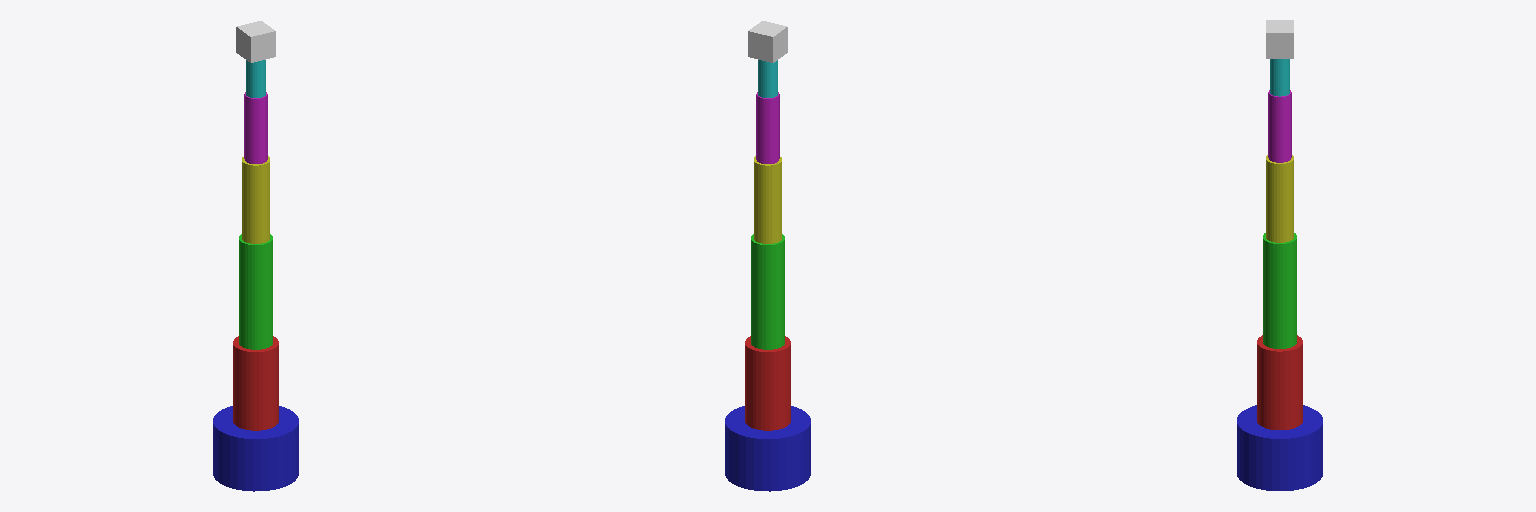
robot.urdf — six_axis_arm:
<?xml version="1.0"?>
<robot name="six_axis_arm">
    
    <!-- Base Link -->
    <link name="base_link">
        <visual>
            <geometry>
                <cylinder length="0.2" radius="0.15"/>
            </geometry>
            <material name="base_material">
                <color rgba="0.2 0.2 0.8 1.0"/>
            </material>
        </visual>
    </link>
    
    <!-- Link 1 -->
    <link name="link1">
        <visual>
            <origin xyz="0 0 0.15" rpy="0 0 0"/>
            <geometry>
                <cylinder length="0.3" radius="0.08"/>
            </geometry>
            <material name="link1_material">
                <color rgba="0.8 0.2 0.2 1.0"/>
            </material>
        </visual>
    </link>
    
    <!-- Link 2 -->
    <link name="link2">
        <visual>
            <origin xyz="0 0 0.2" rpy="0 0 0"/>
            <geometry>
                <cylinder length="0.4" radius="0.06"/>
            </geometry>
            <material name="link2_material">
                <color rgba="0.2 0.8 0.2 1.0"/>
            </material>
        </visual>
    </link>
    
    <!-- Link 3 -->
    <link name="link3">
        <visual>
            <origin xyz="0 0 0.15" rpy="0 0 0"/>
            <geometry>
                <cylinder length="0.3" radius="0.05"/>
            </geometry>
            <material name="link3_material">
                <color rgba="0.8 0.8 0.2 1.0"/>
            </material>
        </visual>
    </link>
    
    <!-- Link 4 -->
    <link name="link4">
        <visual>
            <origin xyz="0 0 0.125" rpy="0 0 0"/>
            <geometry>
                <cylinder length="0.25" radius="0.04"/>
            </geometry>
            <material name="link4_material">
                <color rgba="0.8 0.2 0.8 1.0"/>
            </material>
        </visual>
    </link>
    
    <!-- Link 5 -->
    <link name="link5">
        <visual>
            <origin xyz="0 0 0.1" rpy="0 0 0"/>
            <geometry>
                <cylinder length="0.2" radius="0.035"/>
            </geometry>
            <material name="link5_material">
                <color rgba="0.2 0.8 0.8 1.0"/>
            </material>
        </visual>
    </link>
    
    <!-- End Effector -->
    <link name="end_effector">
        <visual>
            <geometry>
                <box size="0.1 0.1 0.1"/>
            </geometry>
            <material name="ee_material">
                <color rgba="0.9 0.9 0.9 1.0"/>
            </material>
        </visual>
    </link>
    
    <!-- Base Joint (旋转底座) -->
    <joint name="base_joint" type="revolute">
        <parent link="base_link"/>
        <child link="link1"/>
        <origin xyz="0 0 0.1" rpy="0 0 0"/>
        <axis xyz="0 0 1"/>
        <limit lower="-3.14159" upper="3.14159" effort="100" velocity="1"/>
    </joint>
    
    <!-- Shoulder Joint (肩关节) -->
    <joint name="shoulder_joint" type="revolute">
        <parent link="link1"/>
        <child link="link2"/>
        <origin xyz="0 0 0.3" rpy="0 0 0"/>
        <axis xyz="0 1 0"/>
        <limit lower="-1.57079" upper="1.57079" effort="100" velocity="1"/>
    </joint>
    
    <!-- Elbow Joint (肘关节) -->
    <joint name="elbow_joint" type="revolute">
        <parent link="link2"/>
        <child link="link3"/>
        <origin xyz="0 0 0.4" rpy="0 0 0"/>
        <axis xyz="0 1 0"/>
        <limit lower="-2.35619" upper="2.35619" effort="100" velocity="1"/>
    </joint>
    
    <!-- Wrist 1 Joint (腕关节1) -->
    <joint name="wrist1_joint" type="revolute">
        <parent link="link3"/>
        <child link="link4"/>
        <origin xyz="0 0 0.3" rpy="0 0 0"/>
        <axis xyz="0 1 0"/>
        <limit lower="-1.57079" upper="1.57079" effort="100" velocity="1"/>
    </joint>
    
    <!-- Wrist 2 Joint (腕关节2) -->
    <joint name="wrist2_joint" type="revolute">
        <parent link="link4"/>
        <child link="link5"/>
        <origin xyz="0 0 0.25" rpy="0 0 0"/>
        <axis xyz="1 0 0"/>
        <limit lower="-1.57079" upper="1.57079" effort="100" velocity="1"/>
    </joint>
    
    <!-- Wrist 3 Joint (腕关节3) -->
    <joint name="wrist3_joint" type="revolute">
        <parent link="link5"/>
        <child link="end_effector"/>
        <origin xyz="0 0 0.2" rpy="0 0 0"/>
        <axis xyz="0 0 1"/>
        <limit lower="-3.14159" upper="3.14159" effort="100" velocity="1"/>
    </joint>
    
</robot>

--- Facts derived from the render (not from the file) ---
3 views of the same robot in one strip: view 1: azimuth 30°, elevation 25°; view 2: azimuth 150°, elevation 25°; view 3: azimuth 270°, elevation 25° (orthographic).
Model six_axis_arm with 7 links and 6 joints (6 revolute), rooted at base_link, posed every joint at zero.
Visible links, largest first — view 1: base_link, link1, link2, link3, link4, end_effector, link5; view 2: base_link, link1, link2, link3, link4, end_effector, link5; view 3: base_link, link1, link2, link3, link4, end_effector, link5.
Link boxes in pixels (<box>): base_link: <box>213,406,298,491</box>; link1: <box>233,336,278,430</box>; link2: <box>239,234,272,349</box>; link3: <box>242,156,269,243</box>; link4: <box>244,92,267,163</box>; end_effector: <box>236,21,275,62</box>; link5: <box>246,60,265,97</box>; base_link: <box>725,406,810,491</box>; link1: <box>745,336,790,430</box>; link2: <box>751,234,784,349</box>; link3: <box>754,156,781,243</box>; link4: <box>756,92,779,163</box>; end_effector: <box>748,21,787,62</box>; link5: <box>758,60,777,97</box>; base_link: <box>1237,405,1322,490</box>; link1: <box>1257,335,1302,429</box>; link2: <box>1263,233,1296,348</box>; link3: <box>1266,155,1293,242</box>; link4: <box>1268,90,1291,162</box>; end_effector: <box>1266,20,1293,58</box>; link5: <box>1270,59,1289,96</box>.
Bounding box of the posed robot: 0.3 × 0.3 × 1.7 m (x, y, z).
Geometry: primitives only (box / cylinder / sphere), no mesh files.
